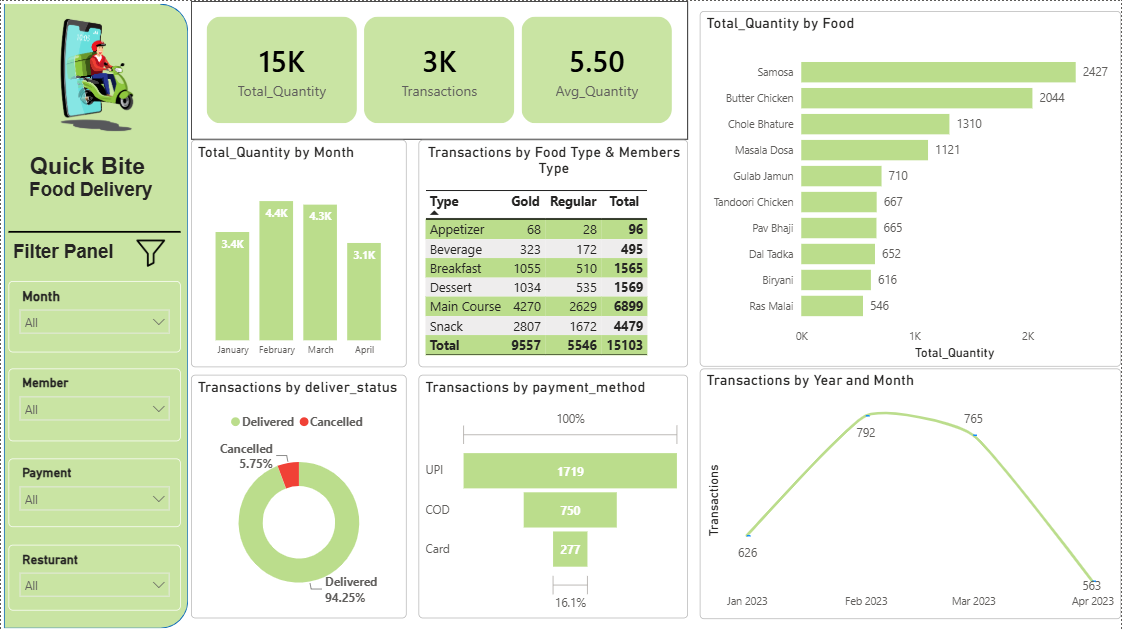

What the dashboard file says about the page in this screenshot:
{"tool":"powerbi","page":{"name":"Page 1","canvas":[1280,720],"ordinal":0},"visuals":[{"type":"shape","box":[0,0,216.7,720],"z":0},{"type":"image","box":[8.3,11.7,208.3,146.7],"z":1000},{"type":"shape","box":[8.3,256.7,196.7,13.3],"z":2000},{"type":"textbox","box":[0,168.3,205,88.3],"z":3000},{"type":"cardVisual","fields":{"Data":["Sales Data.Total_Quantity","Sales Data.Transactions","Sales Data.Avg_Quantity"]},"box":[216.7,0,568.3,158.3],"z":4000},{"type":"clusteredColumnChart","fields":{"Y":["Sales Data.Total_Quantity"],"Category":["Sales Data.orderDate.Variation.Date Hierarchy.Month"]},"box":[216.7,158.3,246.7,260],"z":5000},{"type":"pivotTable","title":"Transactions by Food Type & Members Type","fields":{"Rows":["Food_Details.Type"],"Columns":["Customer Details.member_Type"],"Values":["Sales Data.Total_Quantity"]},"box":[476.7,158.3,308.3,260],"z":6000},{"type":"donutChart","fields":{"Category":["Sales Data.deliver_status"],"Y":["Sales Data.Transactions"]},"box":[216.7,426.7,246.7,278.3],"z":7000},{"type":"funnel","fields":{"Category":["Sales Data.payment_method"],"Y":["Sales Data.Transactions"]},"box":[476.7,426.7,308.3,278.3],"z":8000},{"type":"clusteredBarChart","fields":{"Y":["Sales Data.Total_Quantity"],"Category":["Food_Details.Food"]},"box":[798.3,11.7,481.7,406.7],"z":9000},{"type":"lineChart","fields":{"Y":["Sales Data.Transactions"],"Category":["Sales Data.orderDate.Variation.Date Hierarchy.Year","Sales Data.orderDate.Variation.Date Hierarchy.Month"]},"box":[798.3,420,481.7,286.7],"z":10000},{"type":"slicer","fields":{"Values":["Sales Data.orderDate.Variation.Date Hierarchy.Month"]},"box":[8.3,320,196.7,81.7],"z":11000},{"type":"slicer","fields":{"Values":["Customer Details.member_Type"]},"box":[8.3,420,196.7,83.3],"z":12000},{"type":"slicer","fields":{"Values":["Sales Data.payment_method"]},"box":[8.3,523.3,196.7,78.3],"z":13000},{"type":"slicer","fields":{"Values":["Resturant_Details.Resturant_type"]},"box":[8.3,621.7,196.7,75],"z":14000},{"type":"textbox","box":[8.3,270,196.7,66.7],"z":14001},{"type":"image","box":[136.7,271.7,68.2,33.3],"z":14002}]}

Visuals, with their boxes in screenshot pixels (x1, y1, x2, y2), scaled from the page's 1280x720 canvas onto the 1122x631 screenshot:
shape: (left=0, top=0, right=190, bottom=630)
image: (left=7, top=10, right=190, bottom=139)
shape: (left=7, top=225, right=180, bottom=237)
textbox: (left=0, top=147, right=180, bottom=225)
cardVisual - Sales Data.Total_Quantity x Sales Data.Transactions: (left=190, top=0, right=688, bottom=139)
clusteredColumnChart - Sales Data.Total_Quantity x Sales Data.orderDate.Variation.Date Hierarchy.Month: (left=190, top=139, right=406, bottom=367)
"Transactions by Food Type & Members Type" pivotTable: (left=418, top=139, right=688, bottom=367)
donutChart - Sales Data.deliver_status x Sales Data.Transactions: (left=190, top=374, right=406, bottom=618)
funnel - Sales Data.payment_method x Sales Data.Transactions: (left=418, top=374, right=688, bottom=618)
clusteredBarChart - Sales Data.Total_Quantity x Food_Details.Food: (left=700, top=10, right=1121, bottom=367)
lineChart - Sales Data.Transactions x Sales Data.orderDate.Variation.Date Hierarchy.Year: (left=700, top=368, right=1121, bottom=619)
slicer - Sales Data.orderDate.Variation.Date Hierarchy.Month: (left=7, top=280, right=180, bottom=352)
slicer - Customer Details.member_Type: (left=7, top=368, right=180, bottom=441)
slicer - Sales Data.payment_method: (left=7, top=459, right=180, bottom=527)
slicer - Resturant_Details.Resturant_type: (left=7, top=545, right=180, bottom=611)
textbox: (left=7, top=237, right=180, bottom=295)
image: (left=120, top=238, right=180, bottom=267)
